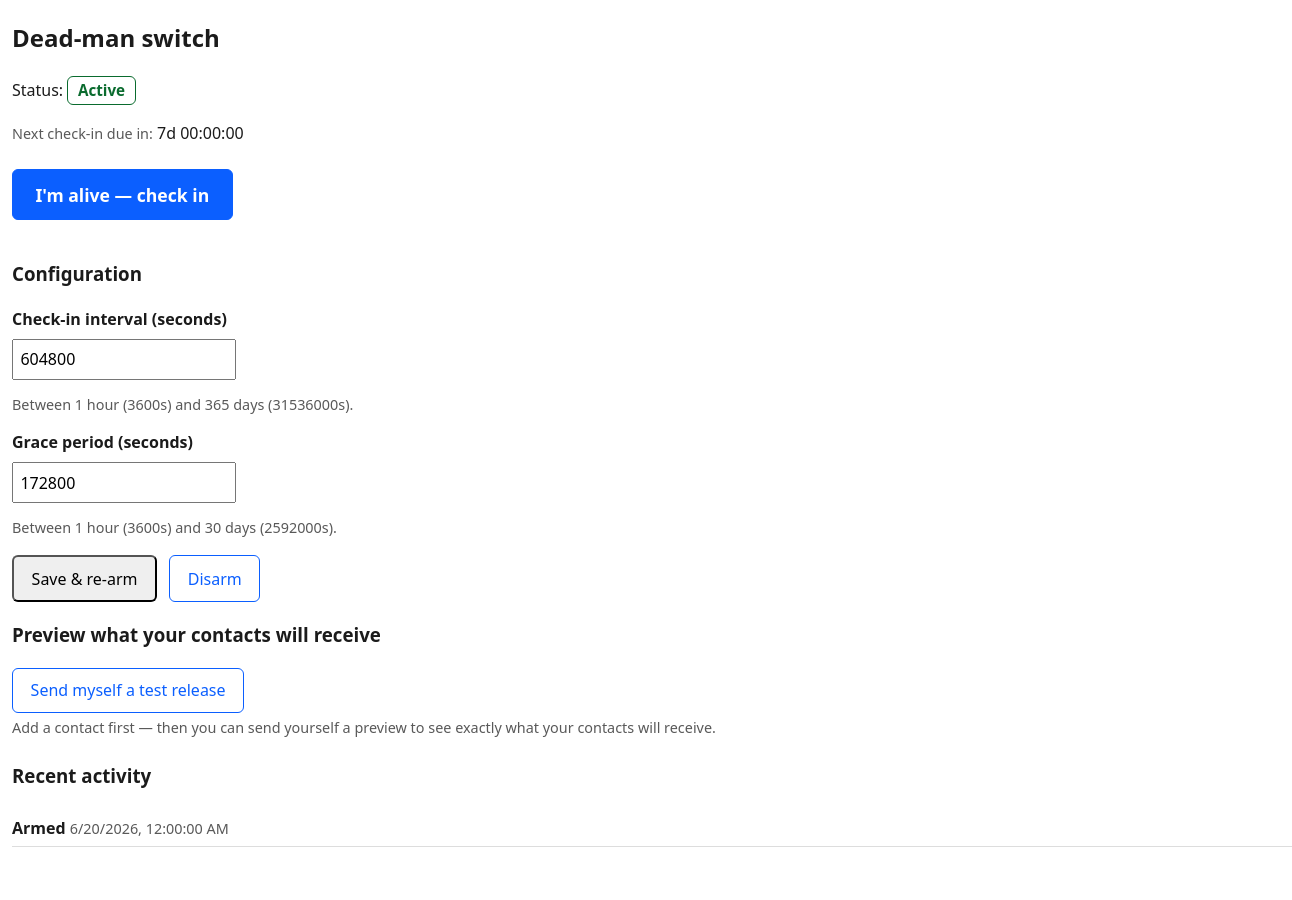
Test: DeadmanDashboard — disarm (US4) › disarms and stops the countdown, showing the disarmed badge
Expected: the text with test id "deadman-state" reads "Active", [78,80,125,100]
Expected: the text "7d 00:00:00" is shown, [157,122,244,144]
Click the button "Disarm".
click(215, 578)  # box [169,555,260,602]
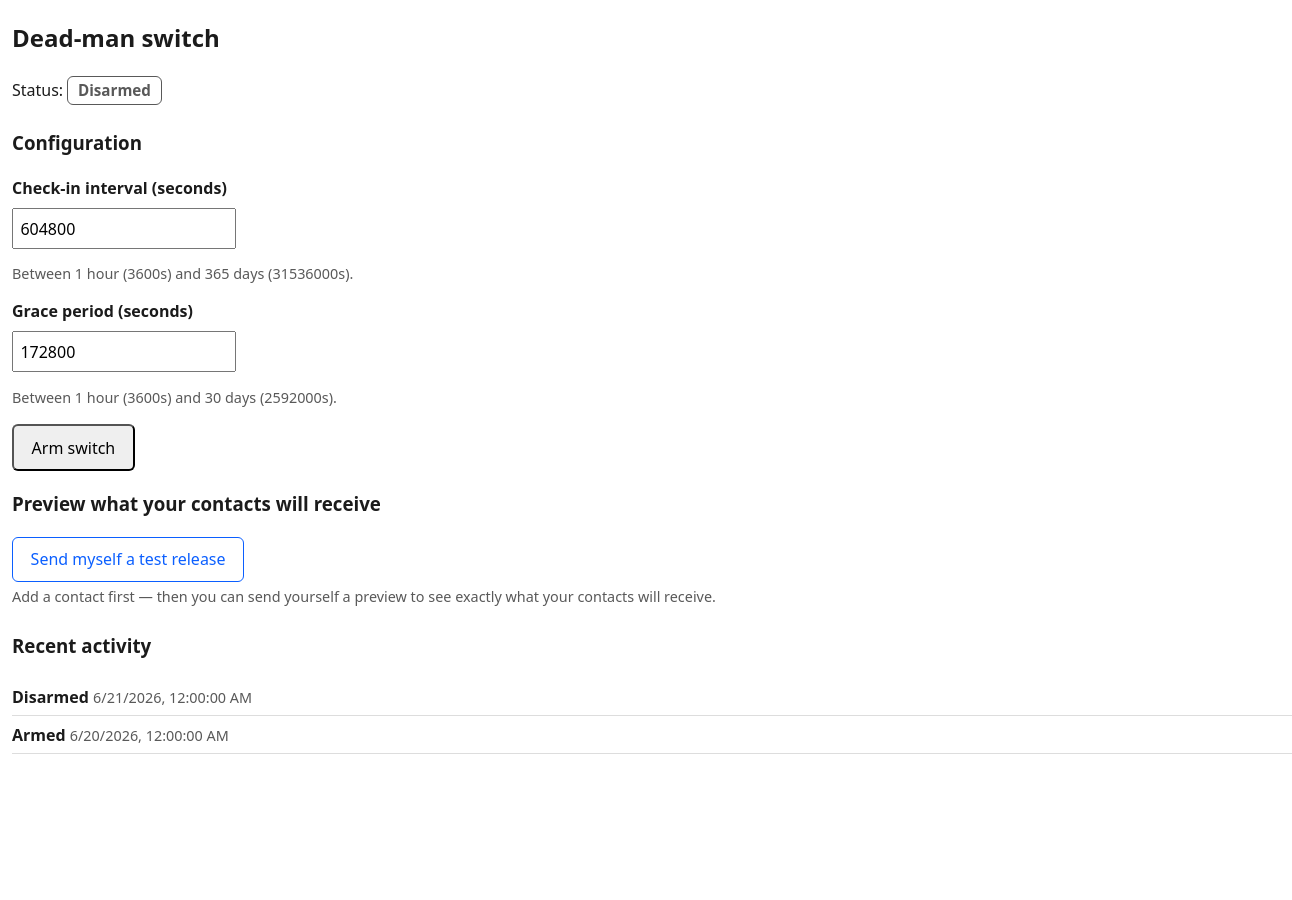
Result: the text with test id "deadman-state" reads "Disarmed" at [78,80,151,100]
Result: the text with test id "deadman-countdown" is gone
